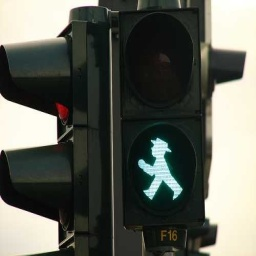traffic light: (0, 6, 246, 249), (0, 21, 89, 232)
